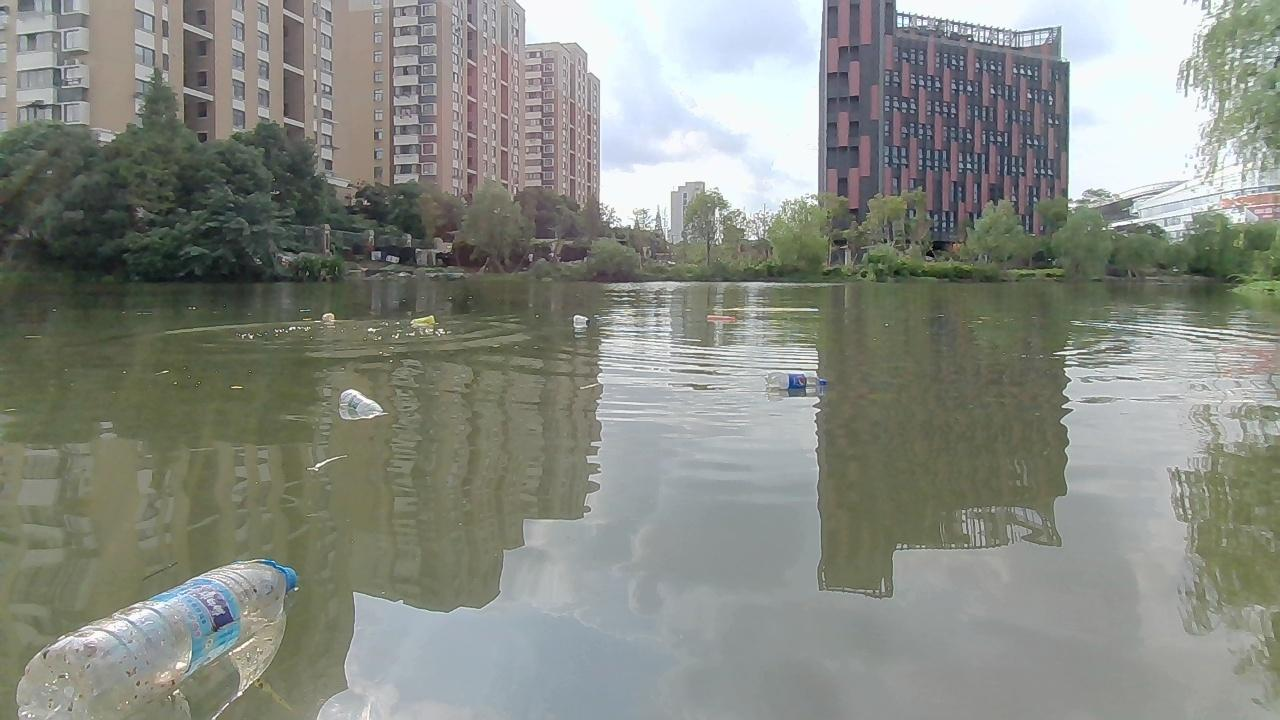bottle: (23, 554, 301, 719), (331, 387, 396, 424), (761, 364, 834, 393), (702, 311, 736, 326), (409, 314, 434, 331), (571, 313, 590, 327), (318, 310, 339, 321)
